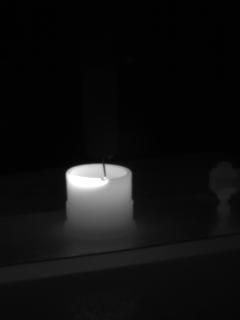tip_wire_left: (85, 151, 106, 179)
tip_wire_right: (104, 151, 117, 179)
